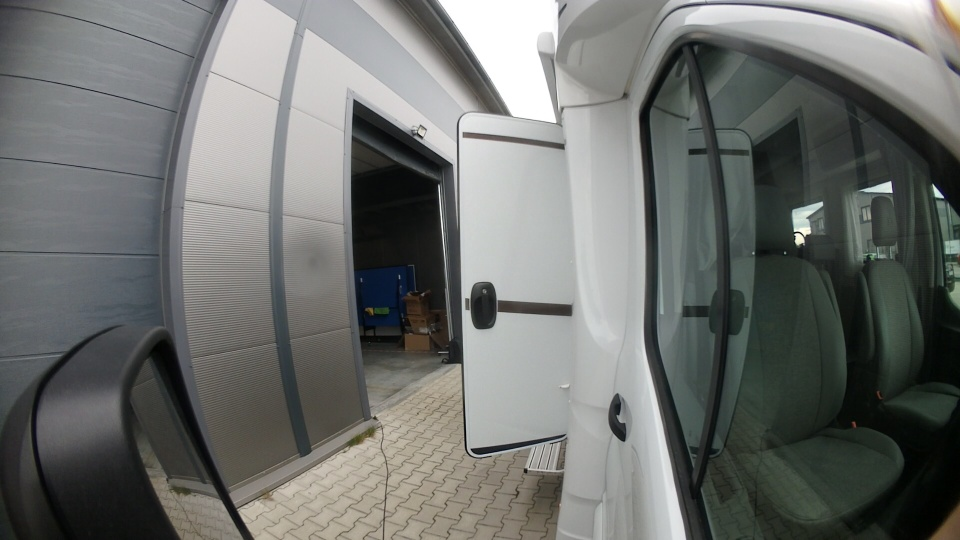door_front: (446, 101, 597, 460)
step_front: (521, 429, 575, 479)
